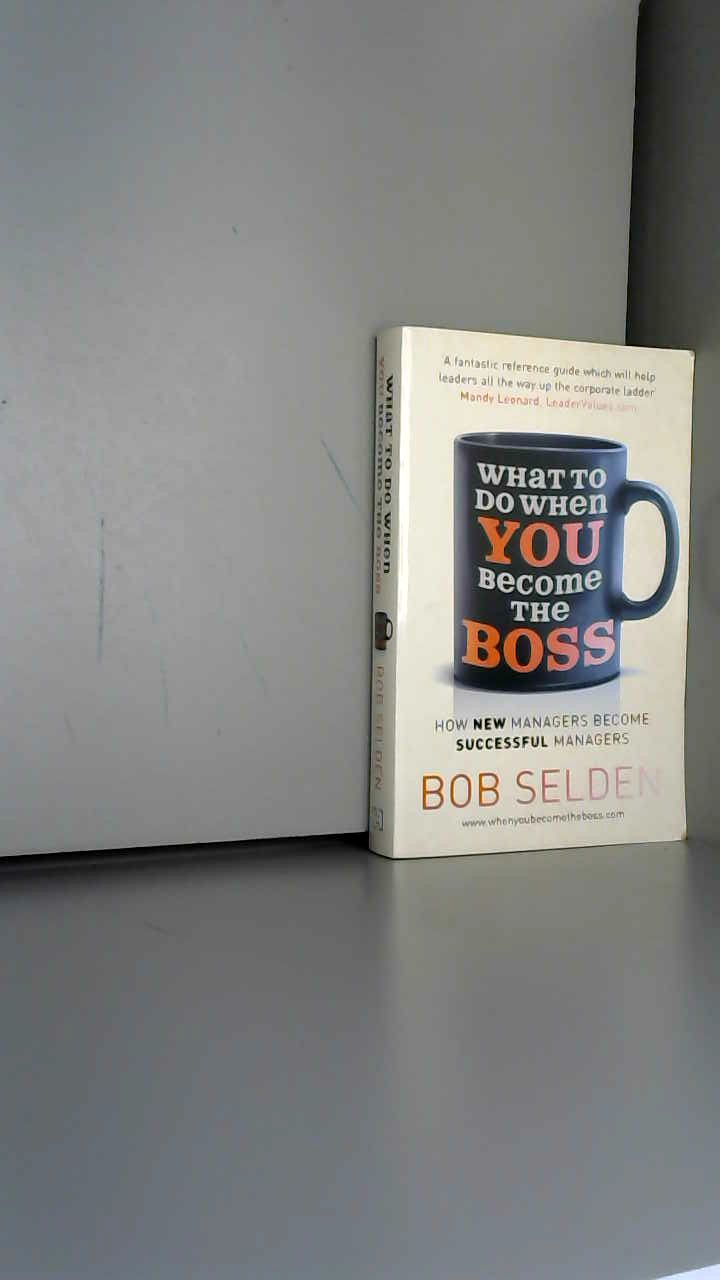book: (340, 300, 720, 935)
